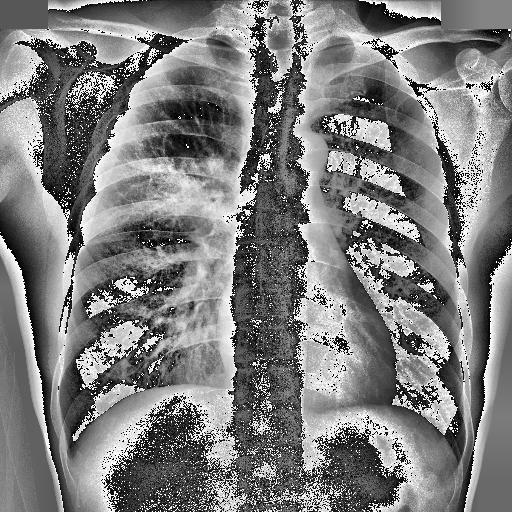10- Pleural effusion: (59, 434, 77, 462)
11- Pleural thickening: (59, 434, 77, 462)
13- Pulmonary fibrosis: (104, 133, 239, 221)
6- Infiltration: (132, 141, 231, 265), (104, 133, 239, 221), (120, 135, 218, 222)
9- Other lesion: (120, 135, 218, 222)
